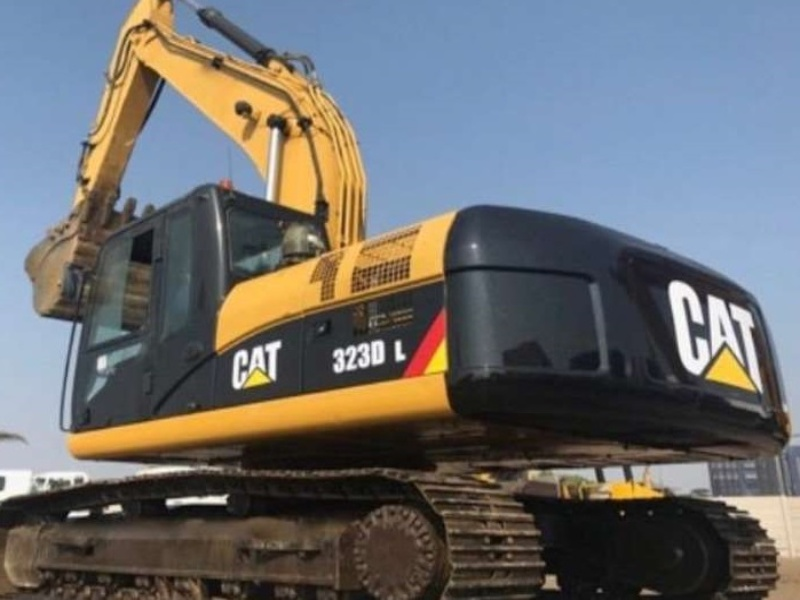wajueji: (36, 83, 796, 600)
